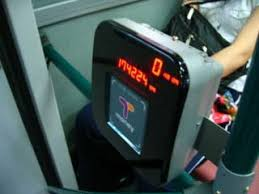terminal: (90, 17, 219, 190)
